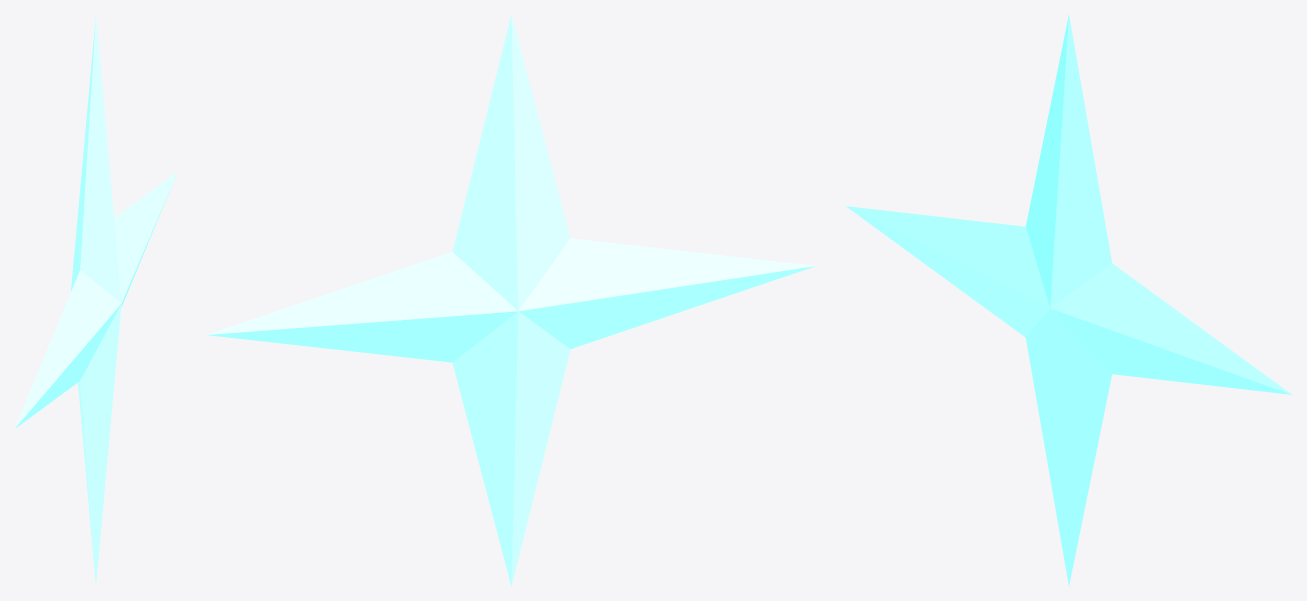
File: sparkle.glb
3 views of the same model, side by side, from view 1: azimuth 30°, elevation 25°; view 2: azimuth 150°, elevation 25°; view 3: azimuth 270°, elevation 25° (orthographic).
Parts seen in each view (by area): view 1: sparkle; view 2: sparkle; view 3: sparkle.
Boxes of the visible parts, x1,y1,x2,y2 form: sparkle: [14, 16, 177, 584]; sparkle: [207, 14, 815, 586]; sparkle: [846, 15, 1291, 585].
Size of the model in its own units: 1.06 by 1.5 by 1.06.
